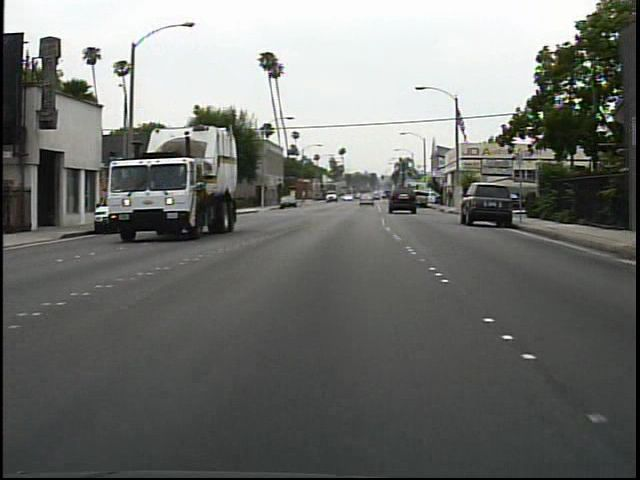car: (105, 136, 208, 241), (459, 178, 514, 229), (388, 184, 416, 216), (357, 190, 374, 207), (327, 190, 338, 201)
